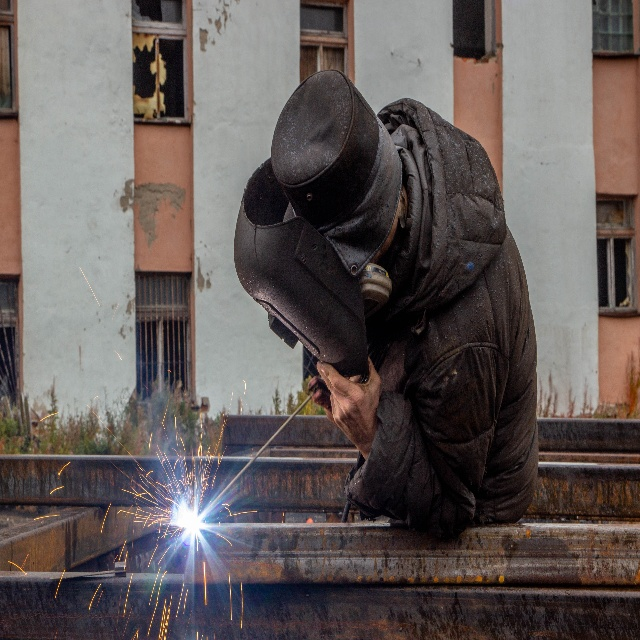Sin_guantes: (317, 353, 382, 443)
